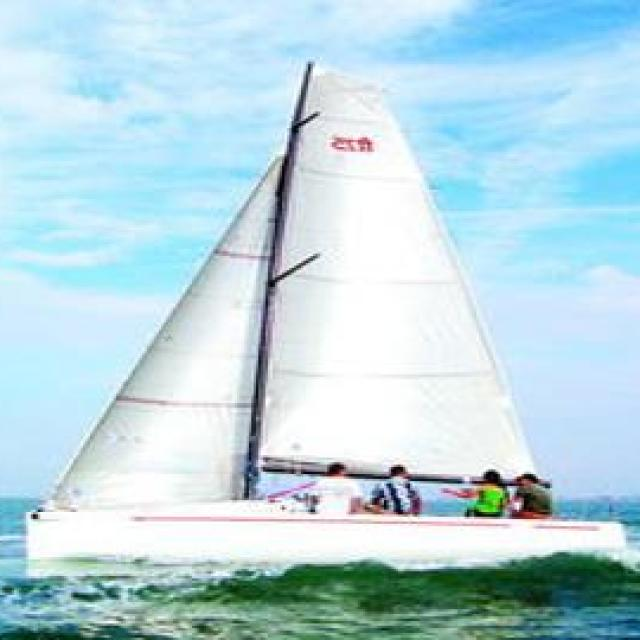sailboat: (18, 62, 626, 567)
